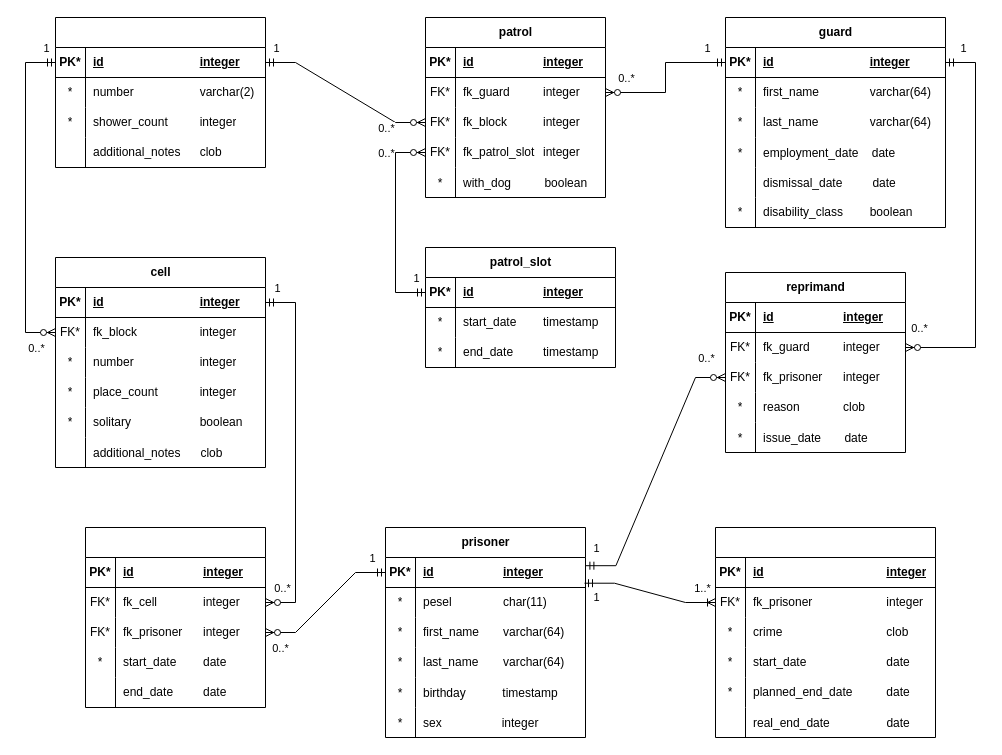
The diagram is 1002 pixels wide and 755 high, and some of its shapes have lost their labels. Here are the shapes that lost their labels. From the top down, the box of each, then its label:
(54, 16, 266, 168): block
(84, 526, 266, 708): accommodation
(714, 526, 936, 738): sentence
